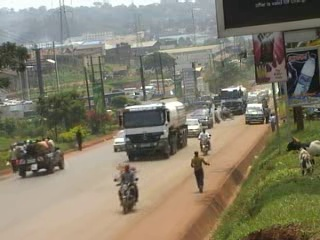Car: (190, 106, 215, 129), (186, 113, 202, 139), (110, 127, 125, 154)
Motorcycle: (108, 160, 143, 214), (196, 124, 214, 159)
